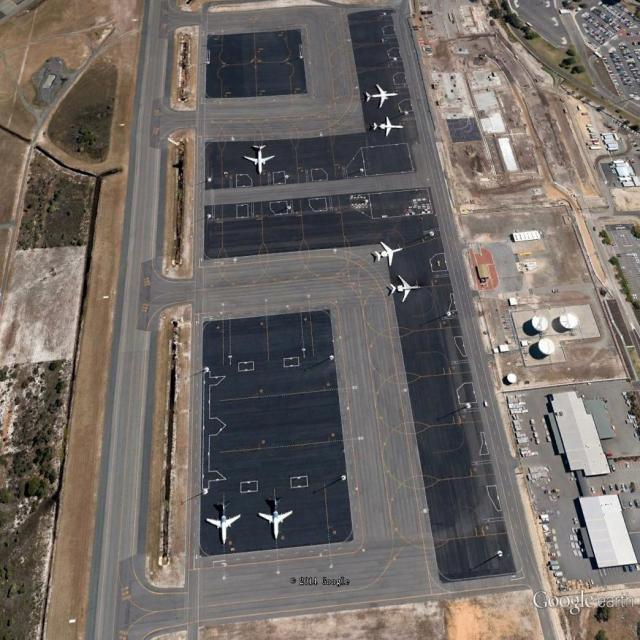aircraft: (203, 498, 246, 548), (257, 495, 296, 545), (371, 235, 407, 271), (387, 274, 425, 307), (364, 82, 403, 114), (244, 143, 277, 178), (371, 115, 406, 142)
